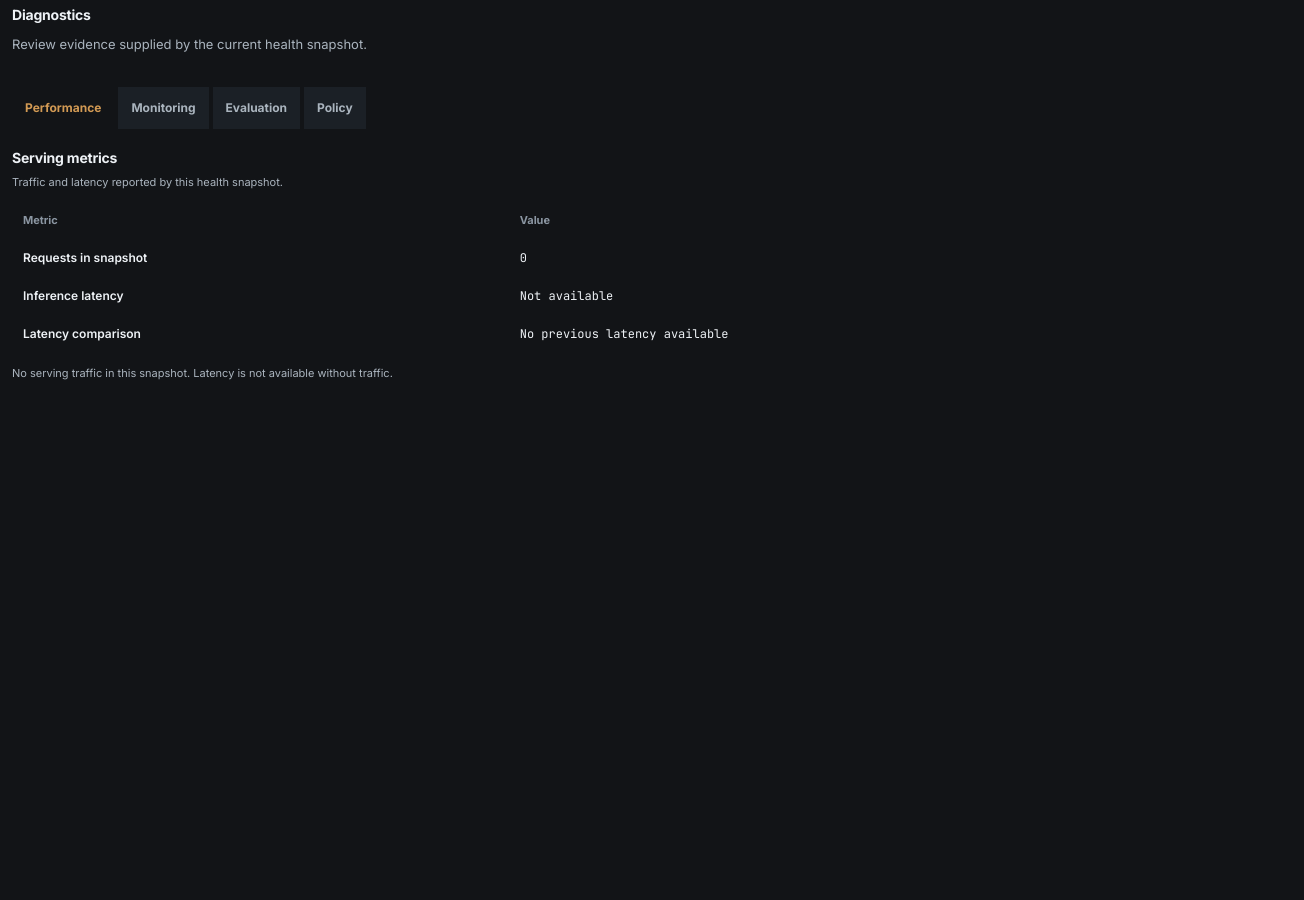
Test: MLHealthDiagnosticsSection › puts evaluation provenance before reported scores and labels their scope
The width and height of the screenshot is (1304, 900).
Step 1. Click the tab "Evaluation" → x=256, y=108, box [212,87,300,129]
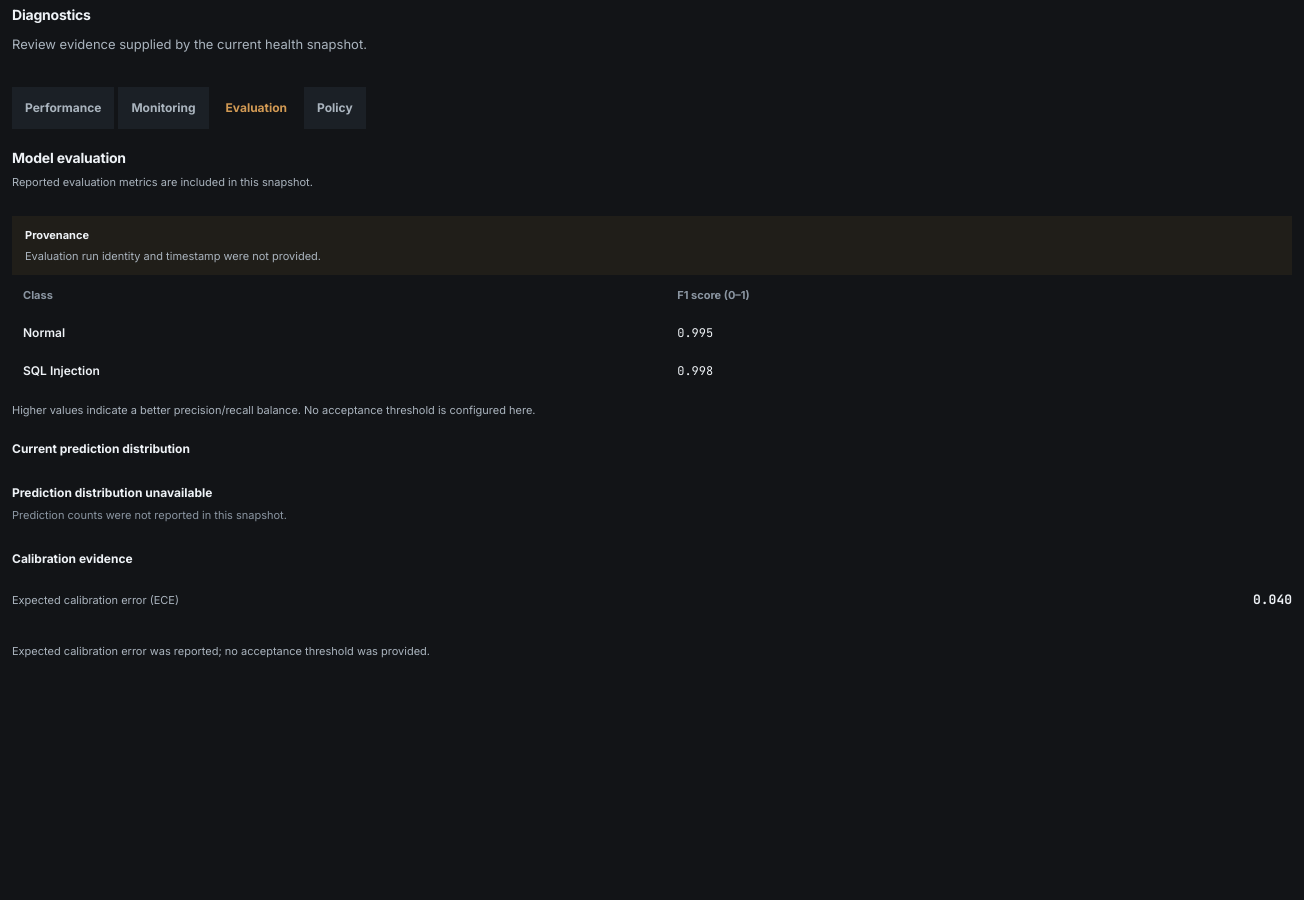
Now the element named "Evaluation provenance" shows "run identity and timestamp were not provided", box [25,249,321,263]
Now the column heading "F1 score (0–1)" is shown, box [666,277,1292,314]
Now the heading "Current prediction distribution" is shown, box [12,441,190,456]
